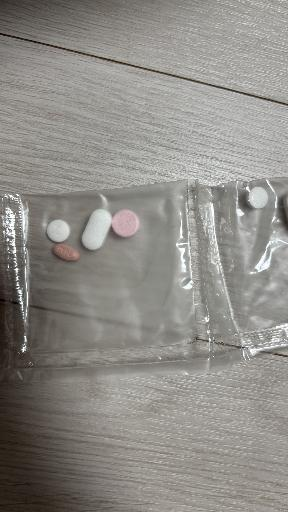Isofen: (82, 209, 112, 250)
Motilitone: (53, 244, 79, 260)
Neomedicough: (111, 209, 139, 237)
Rebamipid: (47, 219, 70, 243)
vinyl: (2, 178, 209, 370), (2, 195, 201, 352), (47, 219, 70, 243)
